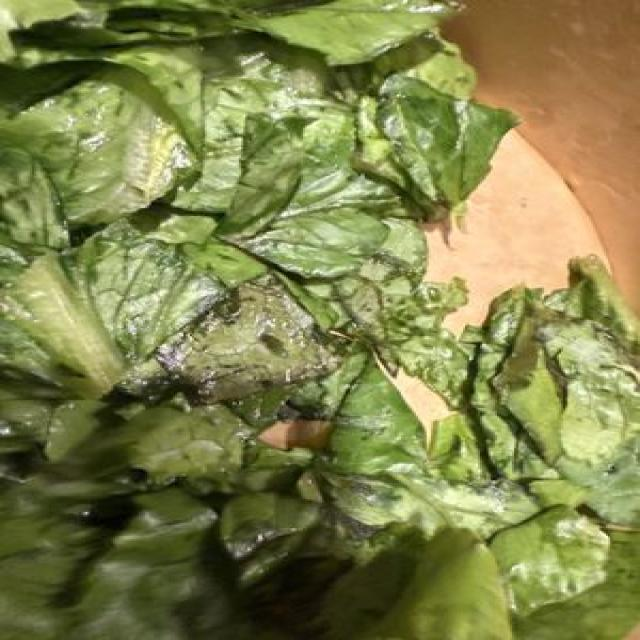rotten spinach: (2, 1, 640, 640), (19, 12, 514, 205), (1, 212, 366, 446), (390, 244, 640, 486)
